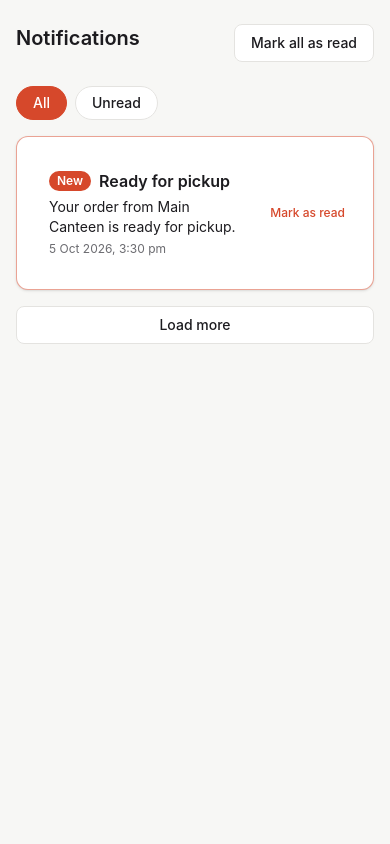
Test: NotificationsView — pagination › never renders one notification twice if a page repeats it
This screenshot has width=390, height=844.
What coordinates should you click on to do the following:
click the button "Load more"
I would click on:
 (195, 325)
Its box is top-left (16, 306), bottom-right (374, 344).
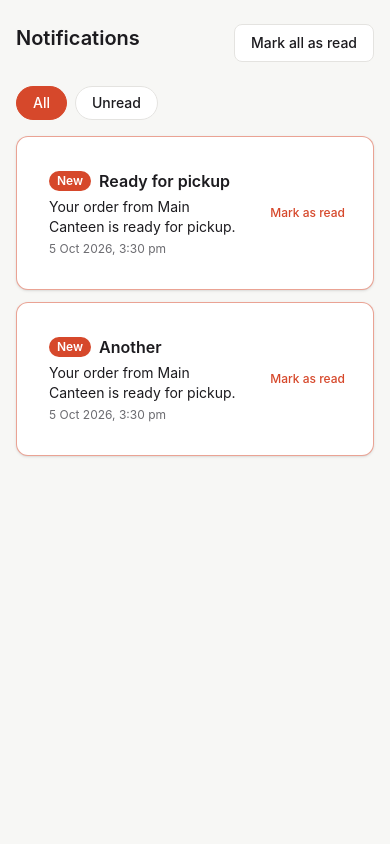
Expected: the text "Another" is shown, top-left (99, 335), bottom-right (162, 359)
Expected: the number of list items is 2, top-left (16, 136), bottom-right (374, 290); top-left (16, 302), bottom-right (374, 456)
